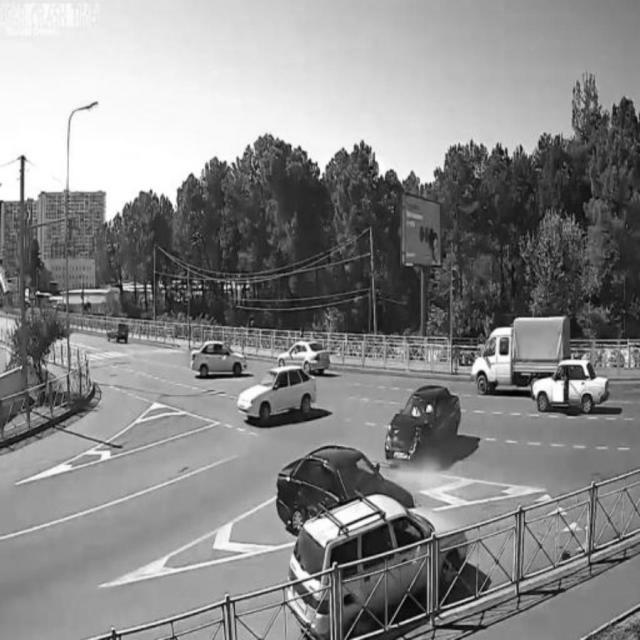vehicle: (289, 494, 469, 628), (275, 446, 393, 532), (470, 321, 568, 394), (386, 381, 463, 464), (239, 367, 317, 423), (531, 359, 608, 410), (189, 337, 249, 377), (277, 336, 333, 372), (106, 318, 132, 344)
